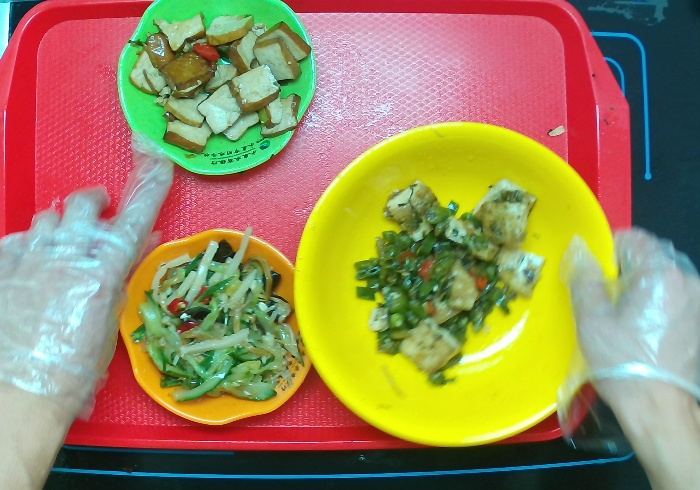YKMZ-Huang_Se_Tang_Wan: (292, 120, 619, 449)
YKMZ-Ju_Se_Ao_Bian_Wan: (119, 230, 311, 431)
YKMZ-Lv_Se_Ao_Bian_Wan: (117, 1, 314, 176)
